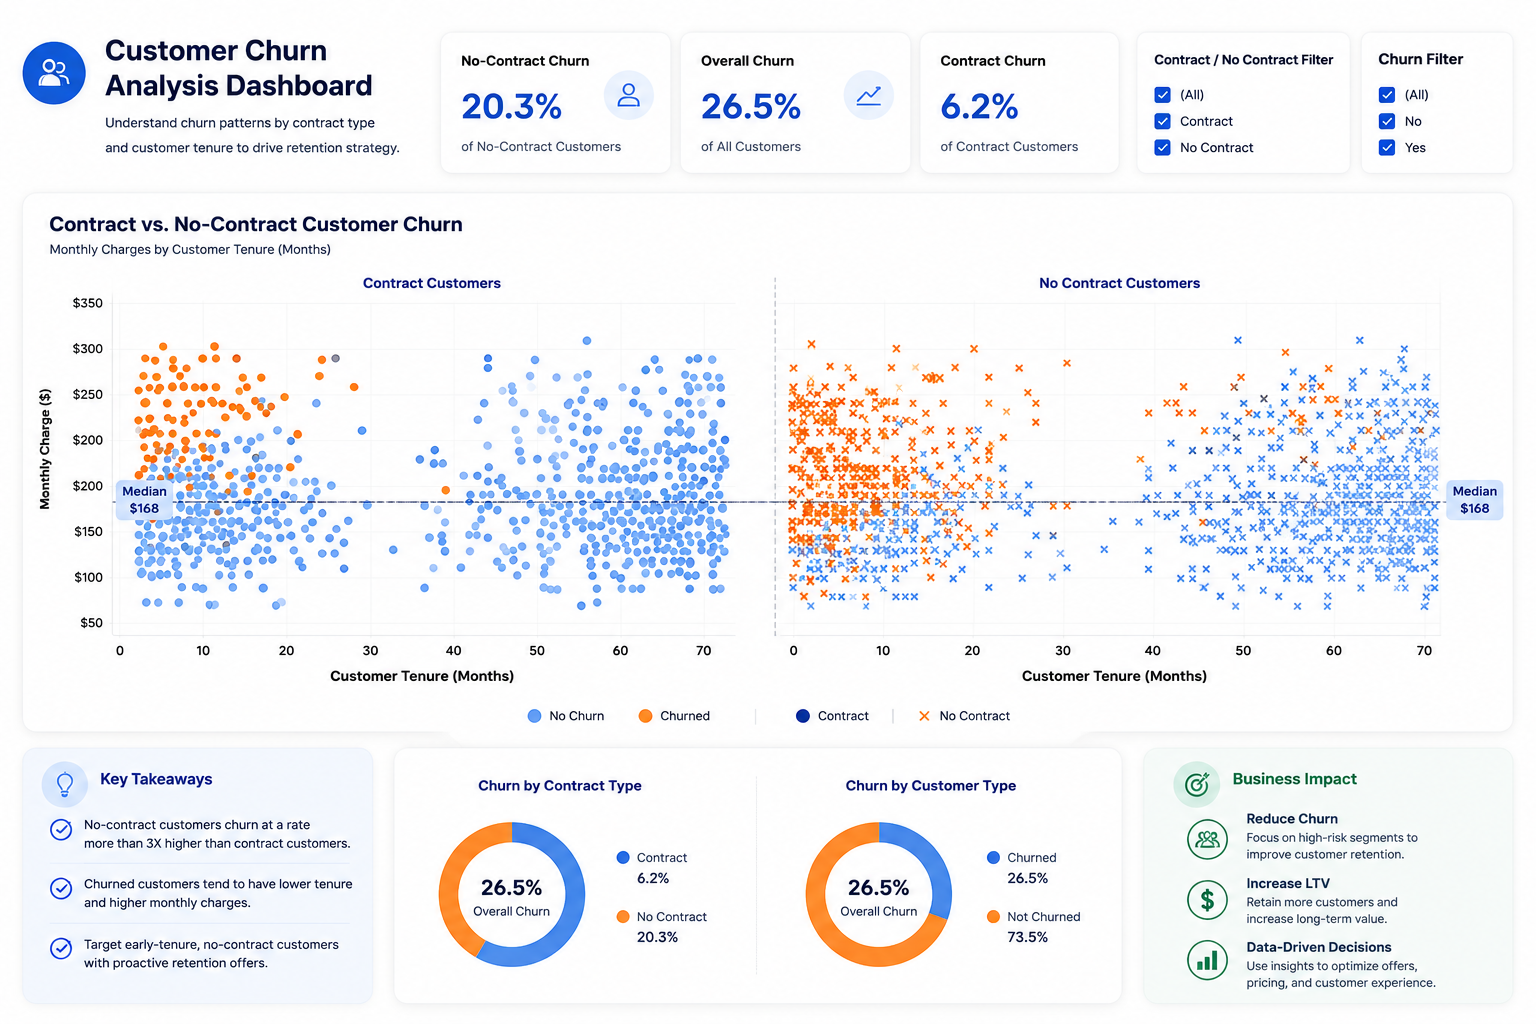

This screenshot's page, from the dashboard's own definition file:
{"tool":"tableau","page":{"name":"Customer Churn Dashboard","canvas":[1320,760],"ordinal":0},"visuals":[{"type":"filter","title":"Contract vs Non-Contract Customer Churn","param":"[federated.0f605qt0ei714h1a6h7zk1shj663].[none:Calculation_2612942937157639:nk]","box":[766,26,257,105]},{"type":"filter","title":"Contract vs Non-Contract Customer Churn","param":"[federated.0f605qt0ei714h1a6h7zk1shj663].[none:Churn:nk]","box":[1033,26,257,105]},{"type":"worksheet","title":"No-contract Churn Rate","mark":"Automatic","box":[99,32,216,105]},{"type":"worksheet","title":"Churn Rate KPI","mark":"Text","box":[315,32,227,105]},{"type":"worksheet","title":"Contract Churn Rate","mark":"Automatic","box":[542,32,175,105]},{"type":"legend","title":"Contract vs Non-Contract Customer Churn","param":"[federated.0f605qt0ei714h1a6h7zk1shj663].[none:Churn:nk]","box":[1051,693,112,59]},{"type":"legend","title":"Contract vs Non-Contract Customer Churn","param":"[federated.0f605qt0ei714h1a6h7zk1shj663].[none:Calculation_2612942937157639:nk]","box":[1173,693,112,59]}]}

Visuals, with their boxes on the page's 1320x760 design canvas (x1, y1, x2, y2). These are canvas units, not pixel positions in the 1536x1024 screenshot, which may show the page scaled, cropped or inside an application window:
"Contract vs Non-Contract Customer Churn" filter: 766/26/1023/131
"Contract vs Non-Contract Customer Churn" filter: 1033/26/1290/131
"No-contract Churn Rate" worksheet: 99/32/315/137
"Churn Rate KPI" worksheet (Text marks): 315/32/542/137
"Contract Churn Rate" worksheet: 542/32/717/137
"Contract vs Non-Contract Customer Churn" legend: 1051/693/1163/752
"Contract vs Non-Contract Customer Churn" legend: 1173/693/1285/752
